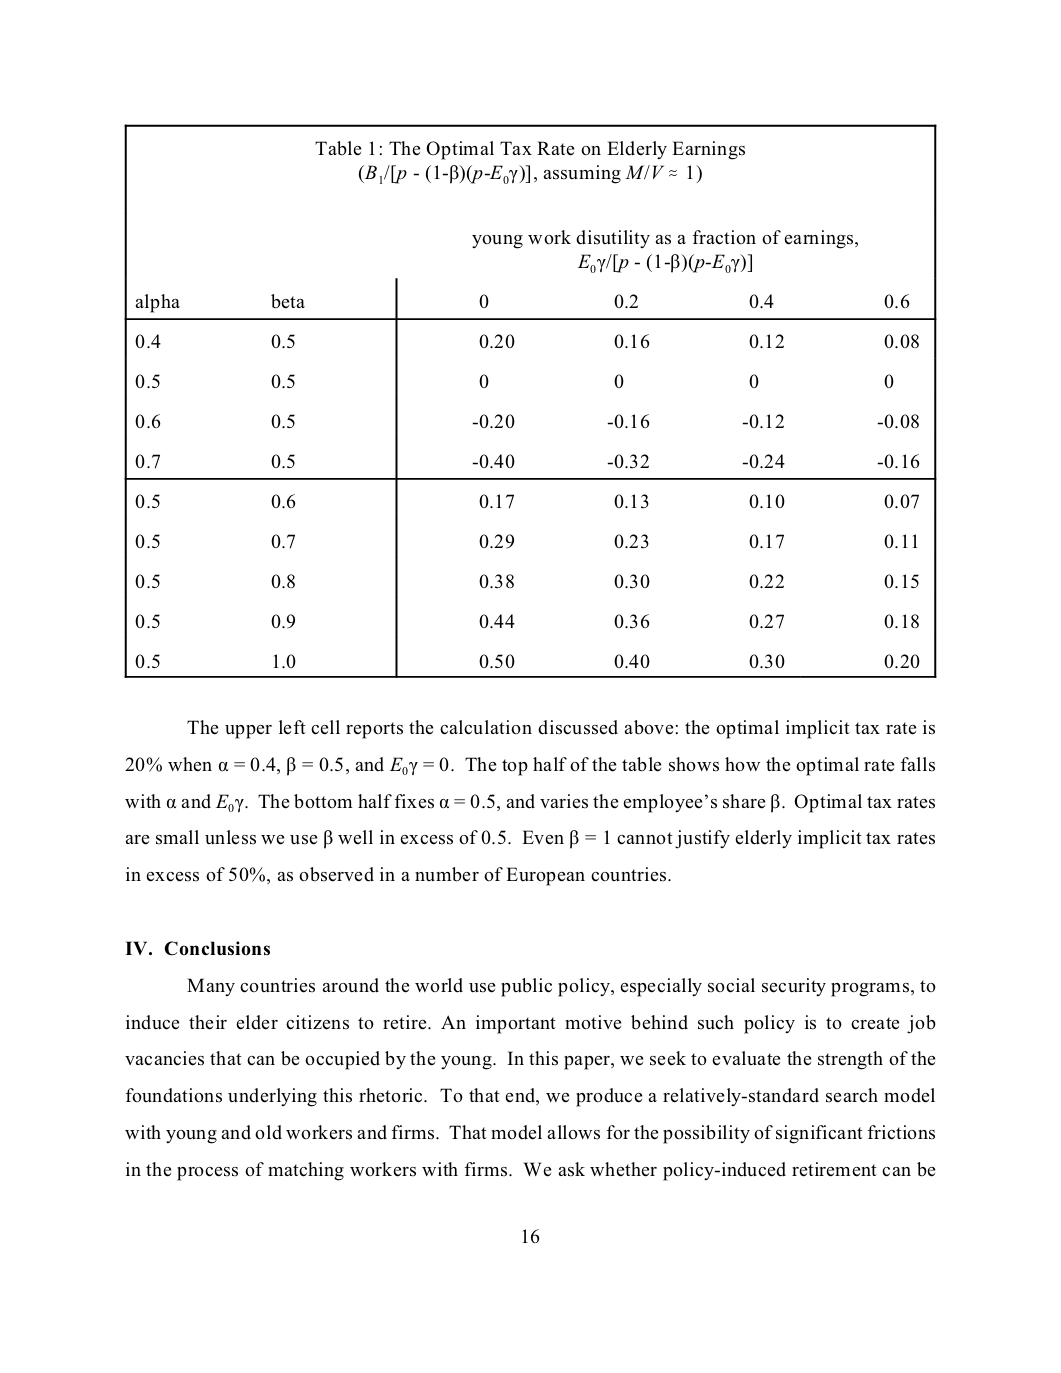Table: (124, 121, 936, 678)
